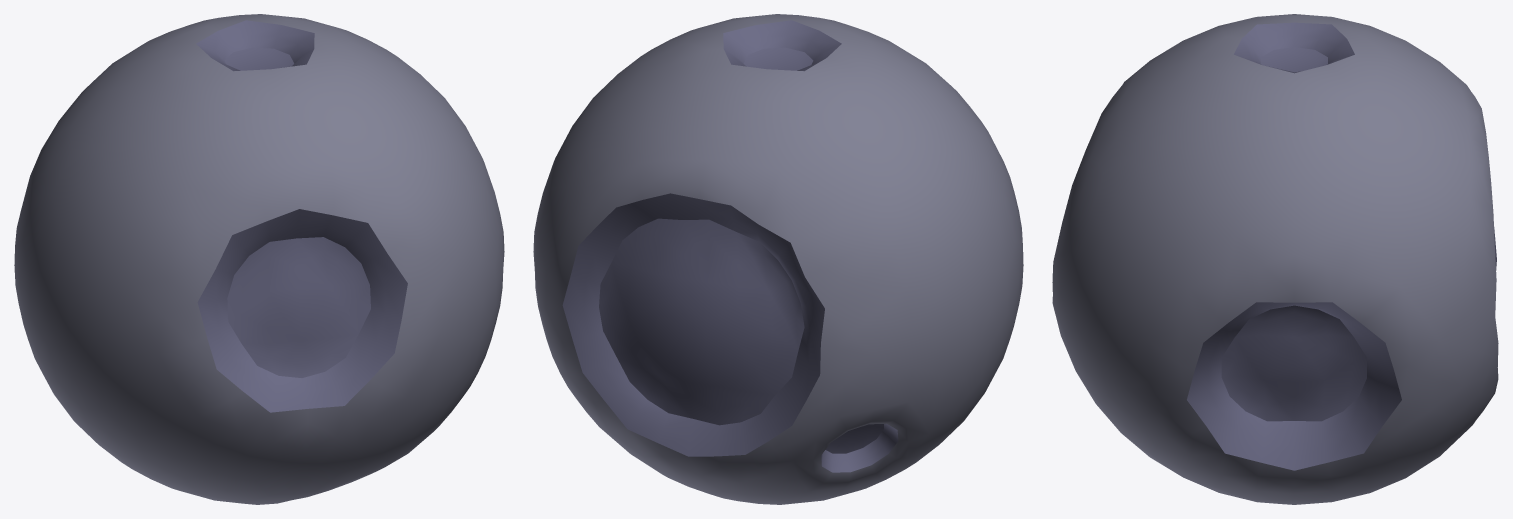
File: moon.glb
The picture shows the model from 3 angles, left to right: view 1: azimuth 30°, elevation 25°; view 2: azimuth 150°, elevation 25°; view 3: azimuth 270°, elevation 25°; orthographic projection.
Visible parts, largest first — view 1: Moon; view 2: Moon; view 3: Moon.
Part boxes in pixels (x1,y1,x2,y2): Moon: [14, 14, 504, 504]; Moon: [533, 14, 1023, 504]; Moon: [1052, 14, 1498, 504].
Bounding box in the file's own units: 3.63 × 3.65 × 3.38.
1 material, 1 textured.
